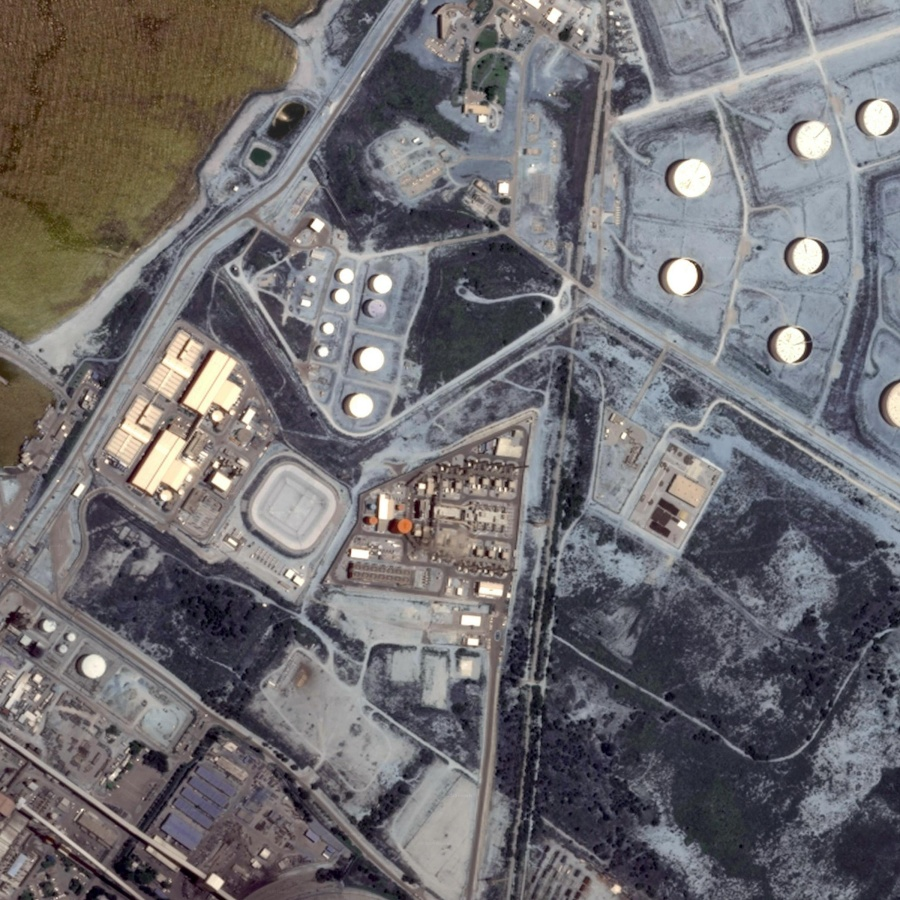PowerPlant: (232, 217, 465, 430)
